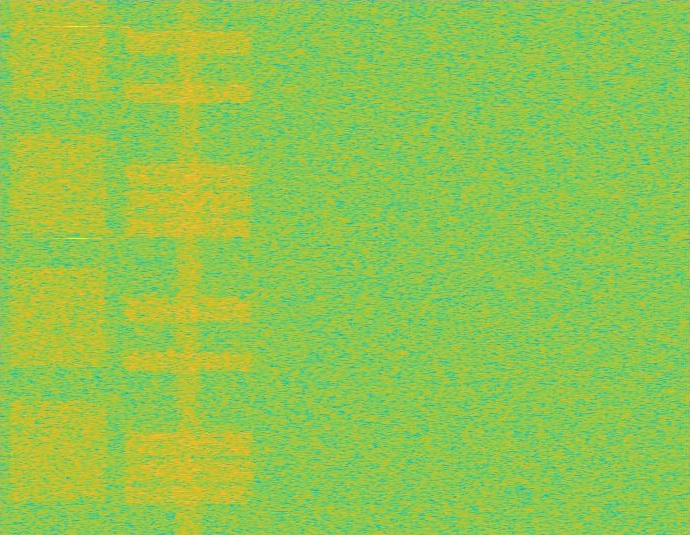5G: (7, 0, 111, 534)
DSSS: (173, 0, 204, 534)
LTE: (119, 0, 257, 534)
Radar: (71, 0, 84, 534)
